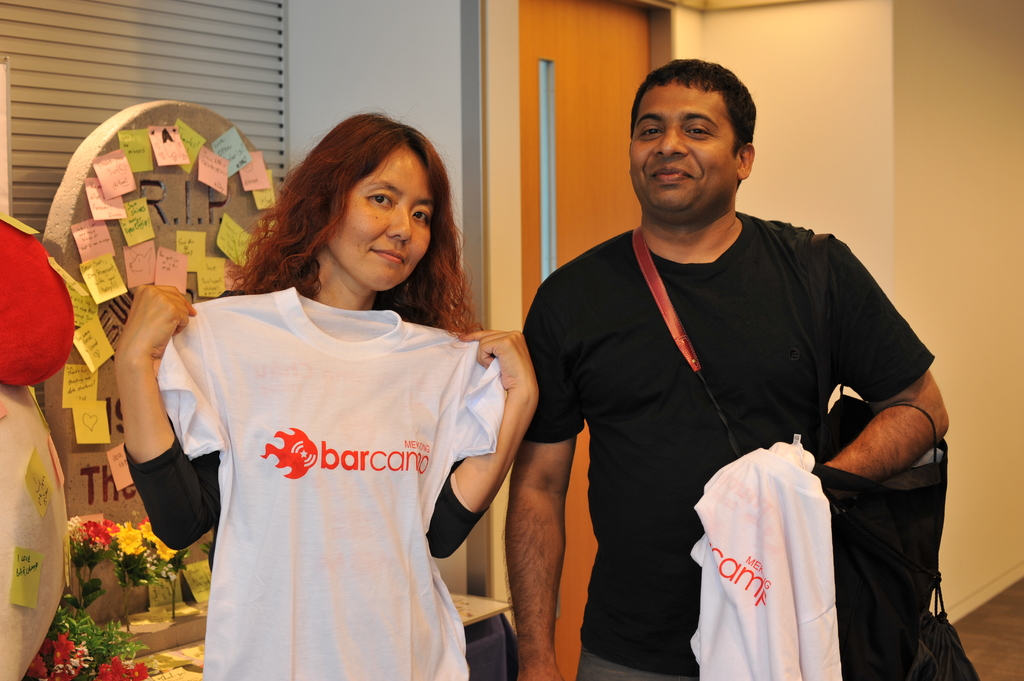Human-face: (324, 149, 433, 291), (636, 79, 737, 216)
